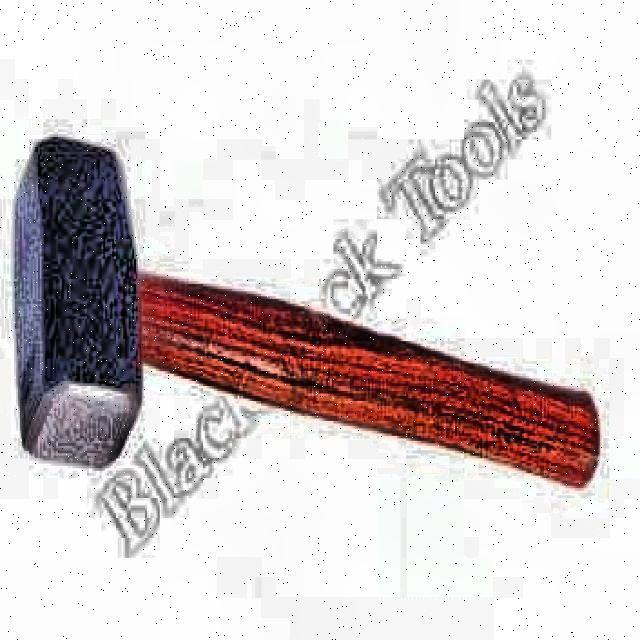hammer: (11, 133, 600, 495)
